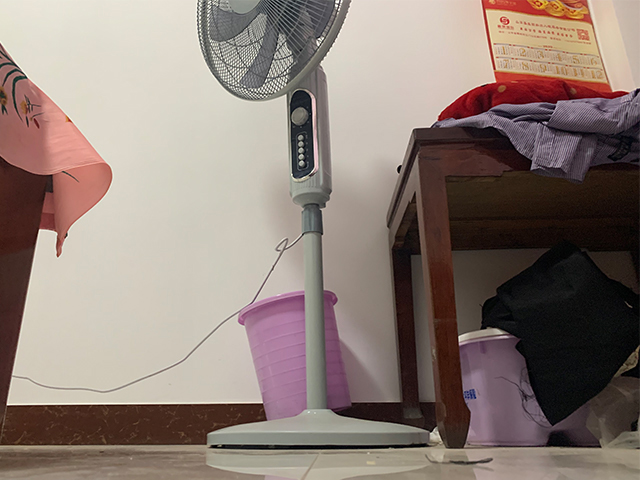table: (385, 125, 640, 450)
trashcan: (235, 288, 353, 421)
